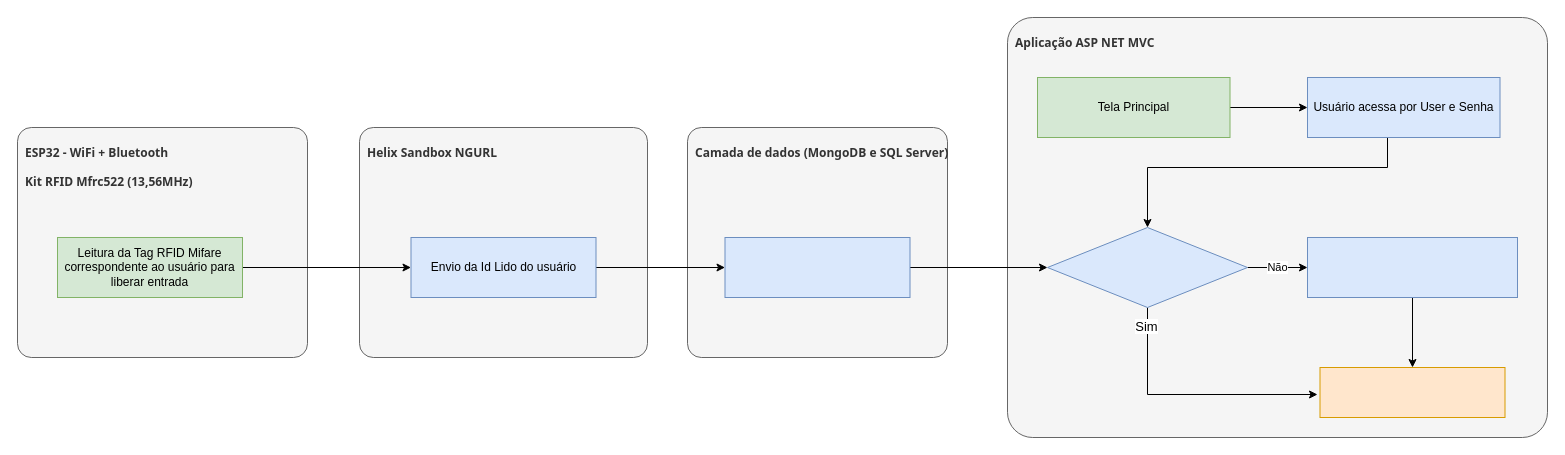
Image size: 1565x455. Some labels were removed from this diagram. Here are the shapes that lost their labels. From the top down, the centre of each, then its label:
At point (817, 267): "Armazenamento do Id".
At point (1147, 267): "Usuário Cadastrado?".
At point (1412, 267): "Exibir Tela Cadastro (Novo ou associar a um existente)".
At point (1412, 392): "Exibir Tela Usuário".
